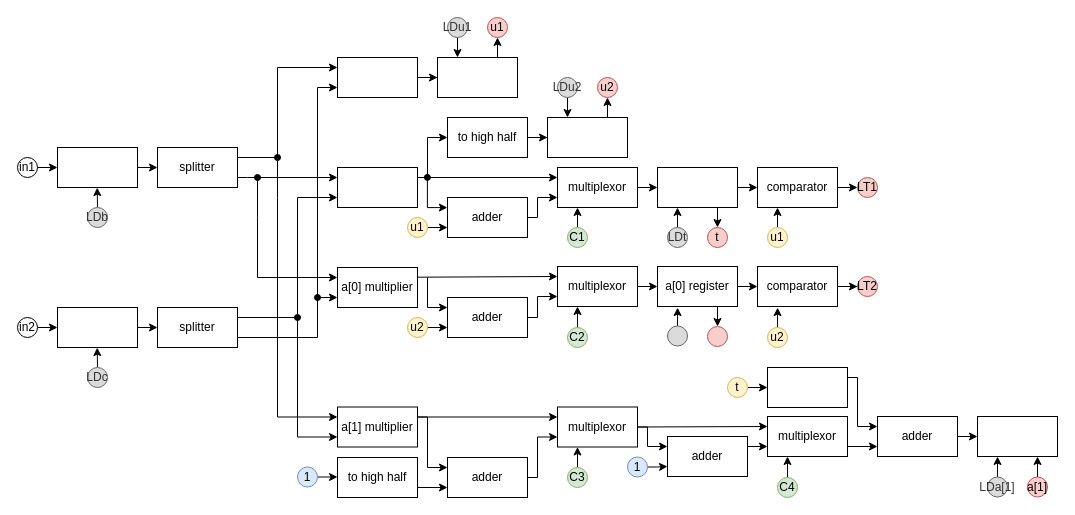
Some shapes in this 1075 by 515 pixel diagram are drawn without their labels. Here are the shapes that lost their labels. From the top down, the box of each, then its label:
(336, 56, 418, 98): u multiplier
(436, 56, 518, 98): u1 register
(546, 116, 628, 158): u2 register
(56, 146, 138, 188): b register
(336, 166, 418, 208): t muliplier
(656, 166, 738, 208): t register
(56, 306, 138, 348): c register
(666, 325, 688, 346): LDa[0]
(706, 326, 728, 346): a[0]
(766, 366, 848, 408): high half extraction
(976, 416, 1058, 456): a[1] register
